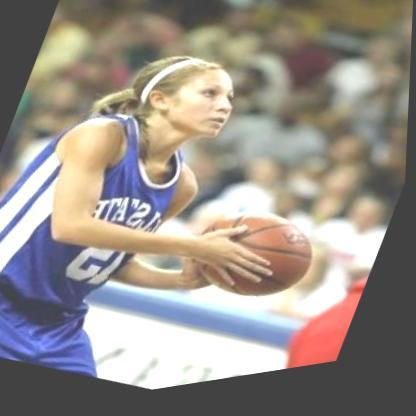basketball: (183, 190, 336, 334)
